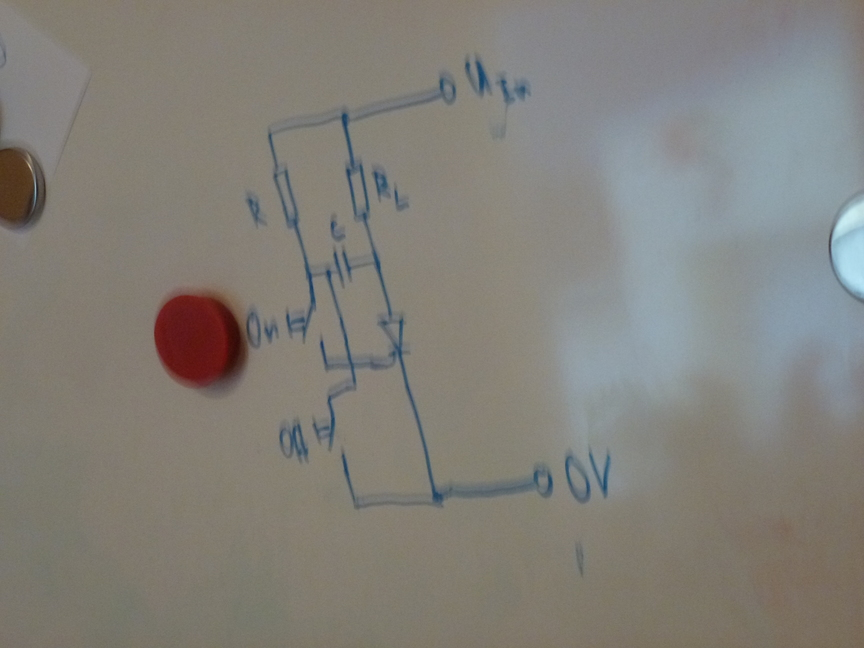capacitor.unpolarized: (333, 247, 356, 288)
crossover: (344, 356, 362, 373)
junction: (428, 489, 447, 509), (336, 109, 353, 126), (349, 497, 362, 512), (264, 127, 277, 141), (347, 380, 360, 393), (369, 256, 383, 268), (323, 392, 335, 403), (304, 268, 314, 280), (324, 268, 332, 278), (321, 362, 331, 370)
resistor: (272, 166, 301, 228), (346, 161, 372, 221)
switch: (286, 303, 325, 345), (312, 416, 346, 457)
terminal: (528, 465, 557, 499), (434, 71, 458, 107)
text: (463, 53, 532, 105), (564, 449, 611, 503), (371, 165, 410, 211), (277, 419, 310, 465), (244, 309, 280, 348), (243, 190, 268, 230), (328, 212, 348, 242)
thyristor: (375, 314, 412, 369)
